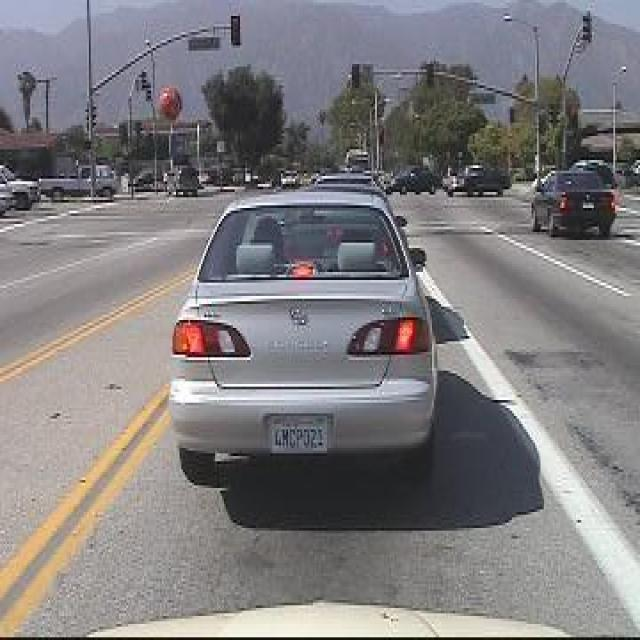car_back: (141, 183, 444, 484), (519, 163, 627, 250)
